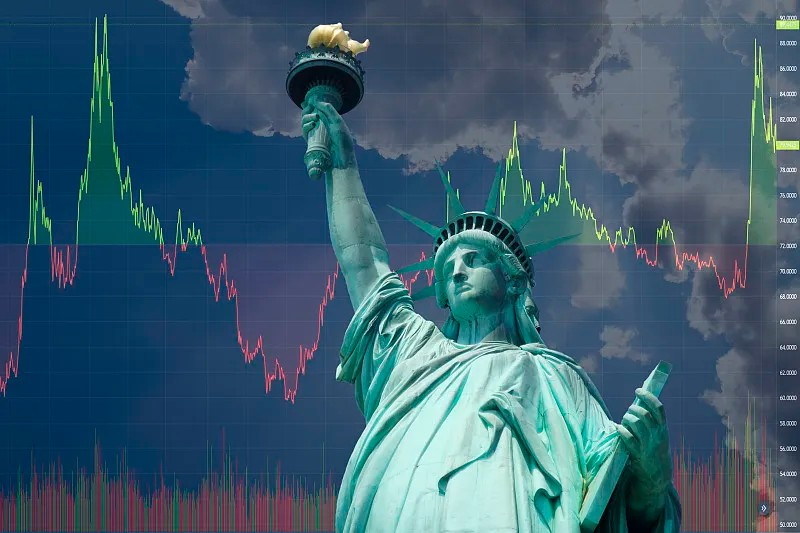SL: (286, 23, 684, 533)
